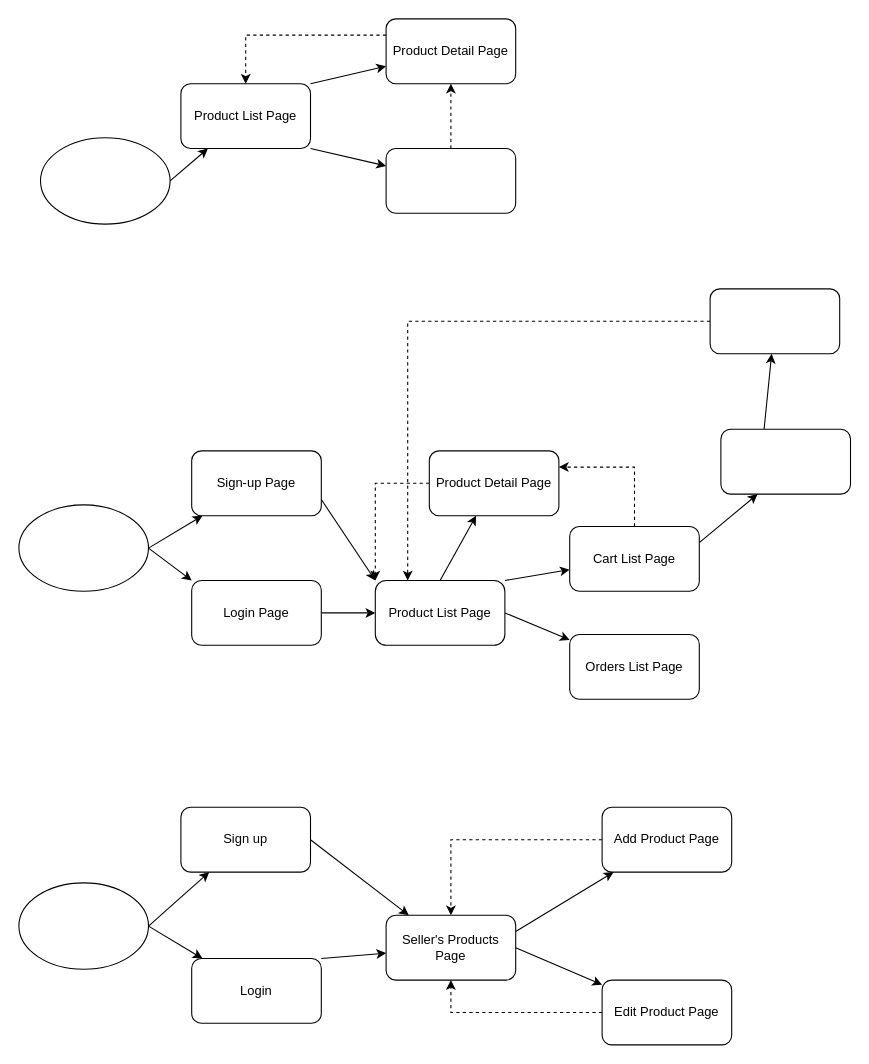
Some shapes in this 869 by 1064 pixel diagram are drawn without their labels. Here are the shapes that lost their labels. From the top down, the box of each, then its label:
(39, 137, 170, 224): Consumer (not login)
(385, 147, 516, 213): Cart List
(709, 288, 840, 354): Thank You Page
(720, 428, 850, 494): Order Page
(18, 504, 148, 591): Consumer (login)
(18, 882, 148, 969): Seller
